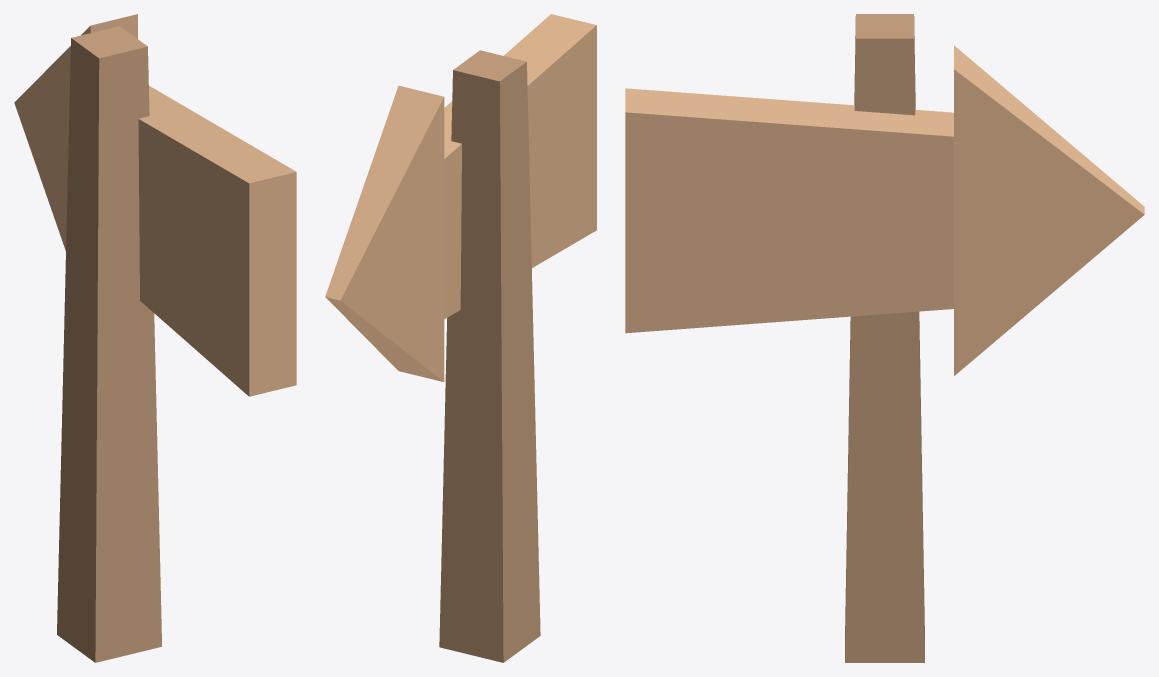
Rendered from arrow.glb.
3 views of the same model, side by side, from view 1: azimuth 30°, elevation 25°; view 2: azimuth 150°, elevation 25°; view 3: azimuth 270°, elevation 25° (orthographic). The views are drawn at different scales.
Visible parts, largest first — view 1: arrow(Clone), arrow; view 2: arrow(Clone), arrow; view 3: arrow, arrow(Clone).
Part boxes in pixels (x1,y1,x2,y2): arrow(Clone): [57, 26, 161, 662]; arrow: [14, 14, 296, 396]; arrow(Clone): [439, 50, 540, 662]; arrow: [325, 14, 596, 381]; arrow: [625, 45, 1144, 375]; arrow(Clone): [845, 14, 924, 662].
Bounding box in the file's own units: 0.0998 × 0.6 × 0.4557.
